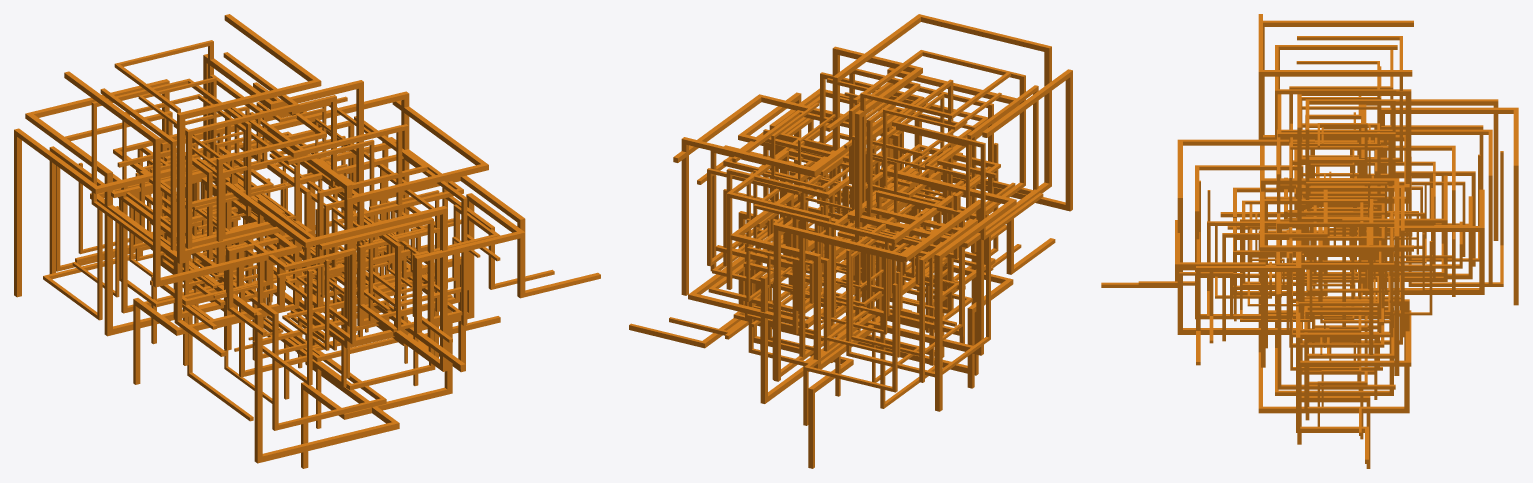
File: GreatGatsby.fbx
3 renders of one model, left to right at view 1: azimuth 30°, elevation 25°; view 2: azimuth 150°, elevation 25°; view 3: azimuth 270°, elevation 25°, orthographic. The views are drawn at different scales.
Visible parts, largest first — view 1: Cube; view 2: Cube; view 3: Cube.
Part boxes in pixels (<box>): Cube: <box>14,14,600,468</box>; Cube: <box>629,14,1072,468</box>; Cube: <box>1101,14,1518,468</box>.
Size of the model in its own units: 21385 by 22392 by 22522.
